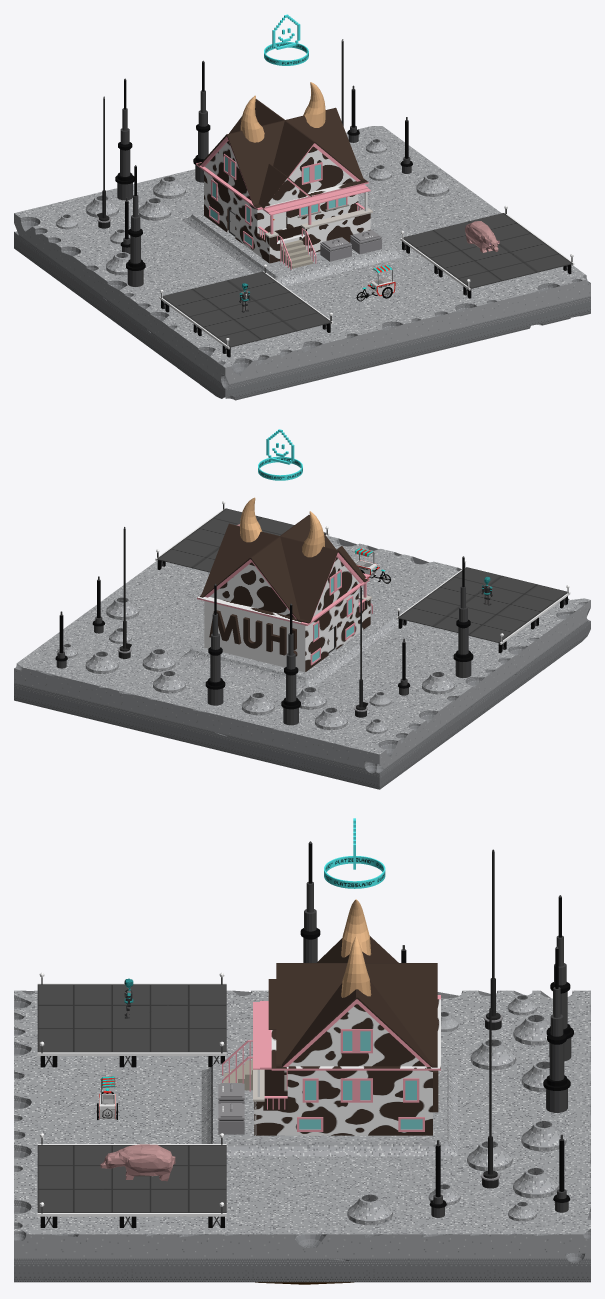
3 renders of one model, top to bottom at view 1: azimuth 30°, elevation 25°; view 2: azimuth 150°, elevation 25°; view 3: azimuth 270°, elevation 25°, orthographic. The views are drawn at different scales.
Visible parts, largest first — view 1: Cube.027, Cube.1242, Cube.025, Cube.026, Cube.028, Cylinder.021, Cylinder.020, Cylinder.017, TYPE_PREMIUM, ANIMAL_HIPOPOTAMO, VEHICLES_SNOWBAL_BIKE, Cube.029 (+4 smaller); view 2: Cube.027, Cube.1242, Cube.025, Cube.028, Cube.026, Cylinder.017, Cylinder.021, Cylinder.020, TYPE_PREMIUM, Cylinder.030, Cylinder.029, Cylinder.025 (+7 smaller); view 3: Cube.027, Cube.1242, Cube.025, Cube.026, Cube.028, Cylinder.017, ANIMAL_HIPOPOTAMO, Cylinder.020, Cylinder.021, TYPE_PREMIUM, Cylinder.033, Cylinder.031 (+11 smaller).
Boxes of the visible parts, left/top/right/bottom form: Cube.027: left=14, top=126, right=590, bottom=400; Cube.1242: left=196, top=82, right=372, bottom=269; Cube.025: left=159, top=264, right=333, bottom=357; Cube.026: left=400, top=205, right=574, bottom=298; Cube.028: left=182, top=211, right=403, bottom=286; Cylinder.021: left=126, top=165, right=145, bottom=286; Cylinder.020: left=115, top=78, right=134, bottom=200; Cylinder.017: left=193, top=60, right=210, bottom=182; TYPE_PREMIUM: left=264, top=14, right=308, bottom=65; ANIMAL_HIPOPOTAMO: left=465, top=221, right=499, bottom=252; VEHICLES_SNOWBAL_BIKE: left=356, top=265, right=395, bottom=301; Cube.029: left=320, top=237, right=351, bottom=261; Cube.027: left=14, top=536, right=590, bottom=789; Cube.1242: left=197, top=497, right=372, bottom=672; Cube.025: left=396, top=560, right=570, bottom=653; Cube.028: left=181, top=610, right=398, bottom=688; Cube.026: left=155, top=501, right=329, bottom=572; Cylinder.017: left=205, top=583, right=225, bottom=705; Cylinder.021: left=453, top=556, right=473, bottom=677; Cylinder.020: left=281, top=603, right=300, bottom=725; TYPE_PREMIUM: left=258, top=429, right=302, bottom=480; Cylinder.030: left=142, top=648, right=175, bottom=671; Cylinder.029: left=153, top=670, right=185, bottom=693; Cylinder.025: left=422, top=671, right=454, bottom=694; Cube.027: left=14, top=990, right=590, bottom=1282; Cube.1242: left=222, top=899, right=440, bottom=1135; Cube.025: left=37, top=972, right=226, bottom=1067; Cube.026: left=37, top=1133, right=226, bottom=1227; Cube.028: left=201, top=1063, right=457, bottom=1156; Cylinder.017: left=543, top=946, right=570, bottom=1112; ANIMAL_HIPOPOTAMO: left=100, top=1144, right=175, bottom=1181; Cylinder.020: left=546, top=895, right=573, bottom=1061; Cylinder.021: left=300, top=841, right=320, bottom=962; TYPE_PREMIUM: left=324, top=818, right=385, bottom=888; Cylinder.033: left=347, top=1193, right=392, bottom=1225; Cylinder.031: left=513, top=1167, right=558, bottom=1198.
Size of the model in its own units: 4000 by 2770 by 4000.
Materials: 43 (5 with a texture image).
